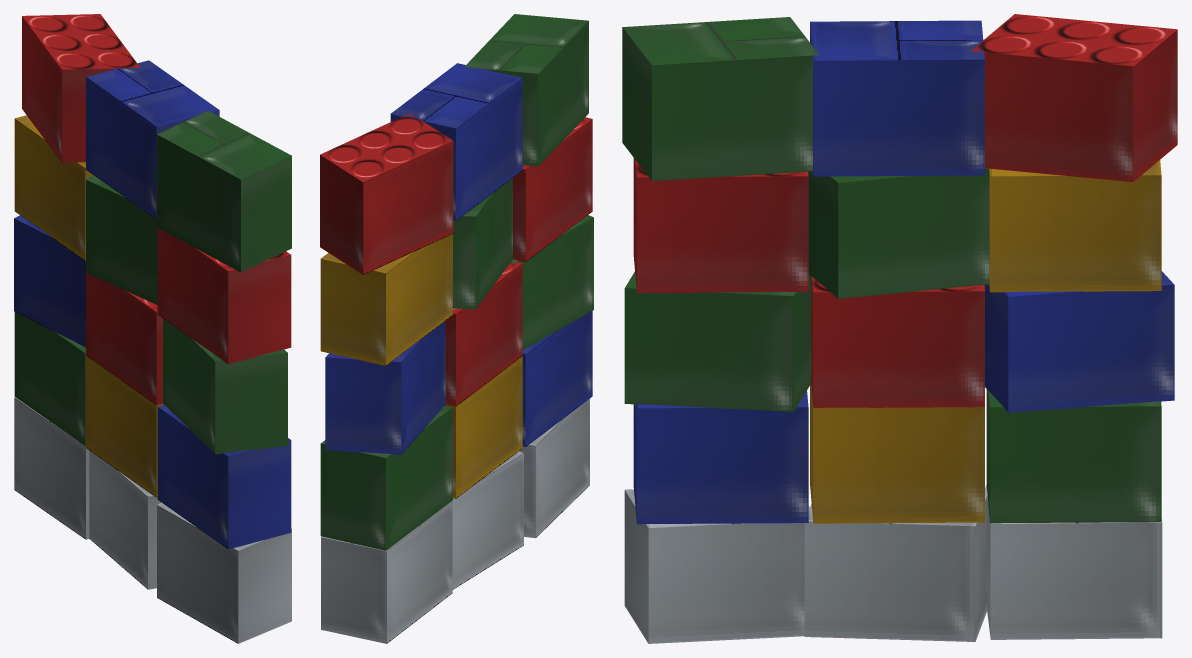
Rendered from legoDoor.obj.
3 views of the same model, side by side, from view 1: azimuth 30°, elevation 25°; view 2: azimuth 150°, elevation 25°; view 3: azimuth 270°, elevation 25° (orthographic). The views are drawn at different scales.
Parts seen in each view (by area): view 1: Plane.003_Plane.019; view 2: Plane.003_Plane.019; view 3: Plane.003_Plane.019.
Boxes of the visible parts, <box> form: Plane.003_Plane.019: <box>14,14,291,643</box>; Plane.003_Plane.019: <box>320,14,593,643</box>; Plane.003_Plane.019: <box>622,14,1177,643</box>.
Bounding box in the file's own units: 0.8551 × 4.37 × 3.79.
Materials: 7 (7 with a texture image).
